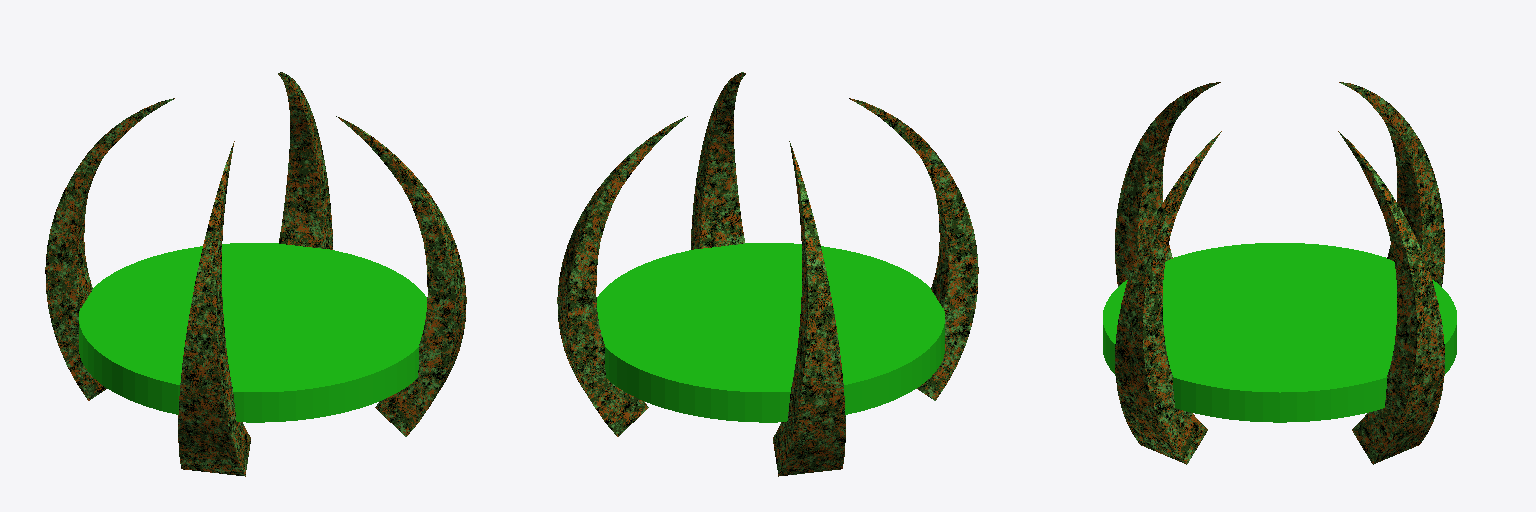
3 views of the same model, side by side, from view 1: azimuth 30°, elevation 25°; view 2: azimuth 150°, elevation 25°; view 3: azimuth 270°, elevation 25° (orthographic).
Parts seen in each view (by area): view 1: teleport_2; view 2: teleport_2; view 3: teleport_2.
Boxes of the visible parts, x1=… form: teleport_2: x1=45, y1=72, x2=466, y2=476; teleport_2: x1=557, y1=72, x2=978, y2=476; teleport_2: x1=1103, y1=82, x2=1456, y2=464.
Size of the model in its own units: 4 by 3.73 by 4.
Materials: 2 (2 with a texture image).